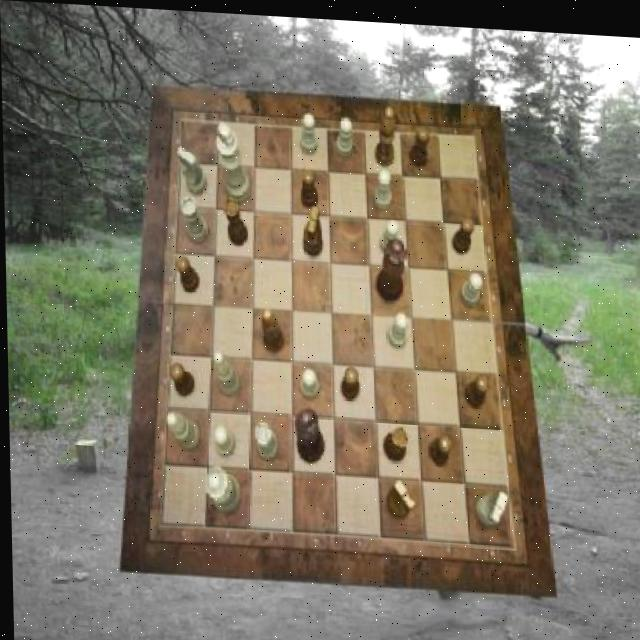bishop: (374, 102, 395, 163), (259, 306, 283, 351)
black-bishop: (292, 403, 323, 460)
black-king: (383, 474, 411, 514), (300, 201, 321, 253)
black-knight: (450, 210, 473, 249), (168, 362, 193, 397), (464, 369, 488, 404), (176, 254, 199, 290), (408, 122, 428, 163), (427, 427, 451, 461), (339, 363, 359, 398), (300, 165, 317, 204)
black-pawn: (374, 233, 406, 298)
black-queen: (223, 195, 247, 244), (381, 421, 406, 456)
black-rook: (165, 411, 198, 450), (212, 348, 239, 395)
white-bishop: (214, 121, 249, 202)
white-king: (176, 145, 204, 194), (472, 483, 506, 521)
white-knight: (458, 266, 482, 301), (385, 307, 406, 344), (373, 165, 391, 206), (334, 114, 352, 155), (378, 214, 398, 250), (299, 109, 316, 151), (212, 423, 232, 455), (298, 364, 316, 396)
white-pawn: (200, 463, 238, 510)
white-queen: (181, 194, 209, 242), (253, 418, 277, 456)
